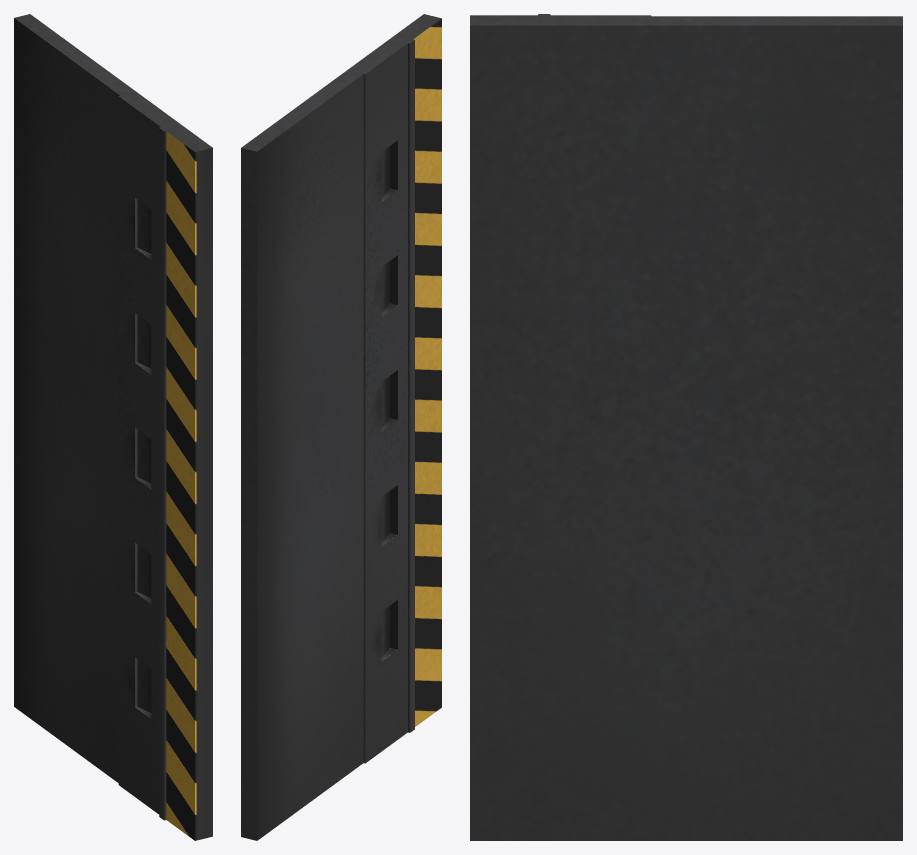
File: astralassault_-_unused_blast_door.glb
3 views of the same model, side by side, from view 1: azimuth 30°, elevation 25°; view 2: azimuth 150°, elevation 25°; view 3: azimuth 270°, elevation 25° (orthographic). The views are drawn at different scales.
Visible parts, largest first — view 1: Cube_0; view 2: Cube_0; view 3: Cube_0.
Part boxes in pixels (x1=…): Cube_0: x1=14, y1=14, x2=212, y2=840; Cube_0: x1=241, y1=14, x2=441, y2=840; Cube_0: x1=470, y1=14, x2=902, y2=840.
Bounding box in the file's own units: 2.24 × 73.59 × 35.39.
Materials: 1 (1 with a texture image).
